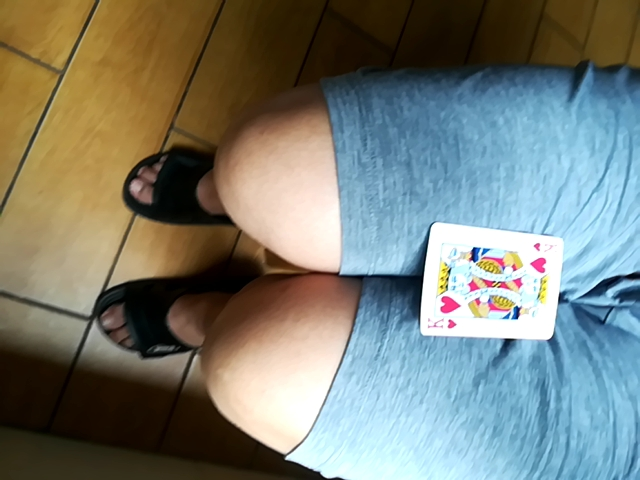hx k: (412, 220, 559, 338)
